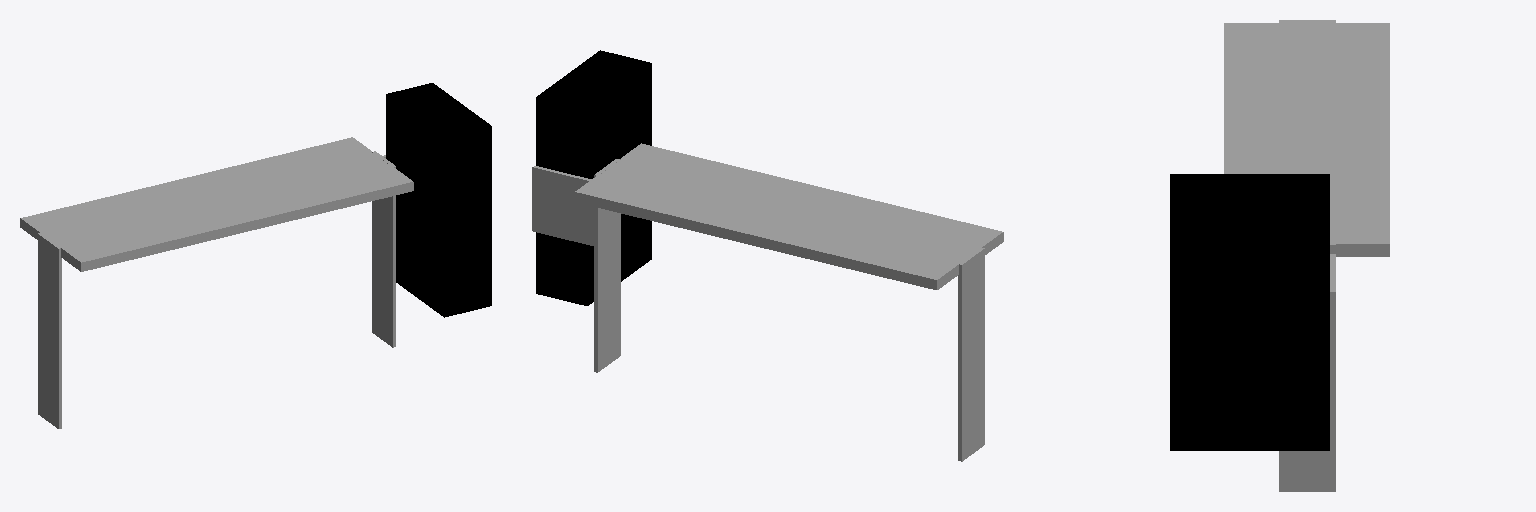
URDF robot description (robotino):
<?xml version="1.0"?>
<!-- =================================================================================== -->
<!-- |    This document was autogenerated by xacro from robotino_3.urdf.xacro          | -->
<!-- |    EDITING THIS FILE BY HAND IS NOT RECOMMENDED                                 | -->
<!-- =================================================================================== -->
<robot name="robotino">
  <!-- base_link -->
  <link name="base_link">
    <inertial>
      <mass value="20"/>
      <origin xyz="0 0 0"/>
      <inertia ixx="1.0" ixy="0.0" ixz="0.0" iyy="1.0" iyz="0.0" izz="1.0"/>
    </inertial>
    <visual>
      <origin rpy="0 0 1.570795" xyz="0.01 0 0"/>
      <geometry>
        <mesh filename="package://robotino_description/meshes/parts/robotino_base.dae" scale="0.01 0.01 0.01"/>
      </geometry>
    </visual>
    <collision>
      <origin rpy="0 0 0" xyz="0 0 0.025"/>
      <geometry>
        <cylinder length="0.05" radius="0.18"/>
      </geometry>
    </collision>
  </link>
  <gazebo reference="base_link">
    <material>Gazebo/White</material>
    <turnGravityOff>false</turnGravityOff>
  </gazebo>
  <!-- gazebo control -->
  <!-- <gazebo>
    <plugin filename="libgazebo_ros_planar_move.so" name="object_controller">
      <commandTopic>cmd_vel</commandTopic>
      <odometryTopic>odom</odometryTopic>
      <odometryFrame>odom</odometryFrame>
      <odometryRate>20</odometryRate>
      <robotBaseFrame>base_link</robotBaseFrame>
    </plugin>
    <plugin filename="libgazebo_ros_control.so" name="gazebo_ros_control"/>
  </gazebo> -->
  <link name="wheel0_link">
    <inertial>
      <mass value="0.00001"/>
      <origin xyz="0 0 0"/>
      <inertia ixx="1.0" ixy="0.0" ixz="0.0" iyy="1.0" iyz="0.0" izz="1.0"/>
    </inertial>
    <visual>
      <origin rpy="0 0 0" xyz="0 0 0"/>
      <geometry>
        <mesh filename="package://robotino_description/meshes/parts/robotino_wheel.dae" scale="0.01 0.01 0.01"/>
      </geometry>
    </visual>
  </link>
  <gazebo reference="wheel0_link">
    <material>Gazebo/Yellow</material>
    <turnGravityOff>false</turnGravityOff>
  </gazebo>
  <joint name="wheel0_joint" type="continuous">
    <origin rpy="0 0 1.04719666667" xyz="0.065 0.11 0.04"/>
    <axis xyz="-1 0 0"/>
    <parent link="base_link"/>
    <child link="wheel0_link"/>
  </joint>
  <transmission name="wheel0_joint_trans">
    <type>transmissio_interface/SimpleTransmission</type>
    <joint name="wheel0_joint"/>
    <actuator name="wheel0_motor">
      <hardwareInterface>EffortJointInterface</hardwareInterface>
      <mechanicalReducation>1</mechanicalReducation>
    </actuator>
  </transmission>
  <link name="wheel1_link">
    <inertial>
      <mass value="0.00001"/>
      <origin xyz="0 0 0"/>
      <inertia ixx="1.0" ixy="0.0" ixz="0.0" iyy="1.0" iyz="0.0" izz="1.0"/>
    </inertial>
    <visual>
      <origin rpy="0 0 0" xyz="0 0 0"/>
      <geometry>
        <mesh filename="package://robotino_description/meshes/parts/robotino_wheel.dae" scale="0.01 0.01 0.01"/>
      </geometry>
    </visual>
  </link>
  <gazebo reference="wheel1_link">
    <material>Gazebo/Yellow</material>
    <turnGravityOff>false</turnGravityOff>
  </gazebo>
  <joint name="wheel1_joint" type="continuous">
    <origin rpy="0 0 0" xyz="-0.13 0 0.04"/>
    <axis xyz="1 0 0"/>
    <parent link="base_link"/>
    <child link="wheel1_link"/>
  </joint>
  <transmission name="wheel1_joint_trans">
    <type>transmissio_interface/SimpleTransmission</type>
    <joint name="wheel1_joint"/>
    <actuator name="wheel1_motor">
      <hardwareInterface>EffortJointInterface</hardwareInterface>
      <mechanicalReducation>1</mechanicalReducation>
    </actuator>
  </transmission>
  <link name="wheel2_link">
    <inertial>
      <mass value="0.00001"/>
      <origin xyz="0 0 0"/>
      <inertia ixx="1.0" ixy="0.0" ixz="0.0" iyy="1.0" iyz="0.0" izz="1.0"/>
    </inertial>
    <visual>
      <origin rpy="0 0 0" xyz="0 0 0"/>
      <geometry>
        <mesh filename="package://robotino_description/meshes/parts/robotino_wheel.dae" scale="0.01 0.01 0.01"/>
      </geometry>
    </visual>
  </link>
  <gazebo reference="wheel2_link">
    <material>Gazebo/Yellow</material>
    <turnGravityOff>false</turnGravityOff>
  </gazebo>
  <joint name="wheel2_joint" type="continuous">
    <origin rpy="0 0 -1.04719666667" xyz="0.065 -0.11 0.04"/>
    <axis xyz="-1 0 0"/>
    <parent link="base_link"/>
    <child link="wheel2_link"/>
  </joint>
  <transmission name="wheel2_joint_trans">
    <type>transmissio_interface/SimpleTransmission</type>
    <joint name="wheel2_joint"/>
    <actuator name="wheel2_motor">
      <hardwareInterface>EffortJointInterface</hardwareInterface>
      <mechanicalReducation>1</mechanicalReducation>
    </actuator>
  </transmission>
  <link name="command_bridge_link">
    <inertial>
      <mass value="0.00001"/>
      <origin xyz="0 0 0"/>
      <inertia ixx="1.0" ixy="0.0" ixz="0.0" iyy="1.0" iyz="0.0" izz="1.0"/>
    </inertial>
    <collision>
      <origin rpy="0 0 0" xyz="0 0 0"/>
      <geometry>
        <box size="0.25 0.11 0.16"/>
      </geometry>
    </collision>
  </link>
  <joint name="command_bridge_joint" type="fixed">
    <origin rpy="0 0 1.570795" xyz="-0.05 0 0.13"/>
    <parent link="base_link"/>
    <child link="command_bridge_link"/>
  </joint>
  <link name="anglebracketusb_link">
    <inertial>
      <mass value="0.00001"/>
      <origin xyz="0 0 0"/>
      <inertia ixx="1.0" ixy="0.0" ixz="0.0" iyy="1.0" iyz="0.0" izz="1.0"/>
    </inertial>
    <visual>
      <origin rpy="0 0 0" xyz="0 0 0"/>
      <geometry>
        <mesh filename="package://robotino_description/meshes/parts/angle_bracket_usb_hub.dae" scale="0.01 0.01 0.01"/>
      </geometry>
    </visual>
  </link>
  <joint name="anglebracketusb_joint" type="fixed">
    <origin rpy="0 0 1.570795" xyz="0.008 0 0.137"/>
    <parent link="base_link"/>
    <child link="anglebracketusb_link"/>
  </joint>
</robot>

--- Facts derived from the render (not from the file) ---
Views: 3 orthographic renders of the robot side by side, from view 1: azimuth 30°, elevation 25°; view 2: azimuth 150°, elevation 25°; view 3: azimuth 270°, elevation 25°.
Model robotino with 6 links and 5 joints (3 continuous, 2 fixed), rooted at base_link, posed all joints at 0.
Links seen in each view (by area): view 1: anglebracketusb_link; view 2: anglebracketusb_link; view 3: anglebracketusb_link.
Boxes of the visible links, bbox=[...] form: anglebracketusb_link: bbox=[20, 83, 491, 428]; anglebracketusb_link: bbox=[532, 50, 1003, 461]; anglebracketusb_link: bbox=[1170, 20, 1389, 491].
Bounding box of the posed robot: 0.2171 × 0.0771 × 0.1247 m (x, y, z).
1 mesh visuals loaded from 3 distinct referenced files (1 Collada DAE); not drawn: 4 (reference not matched to a file when rendering).